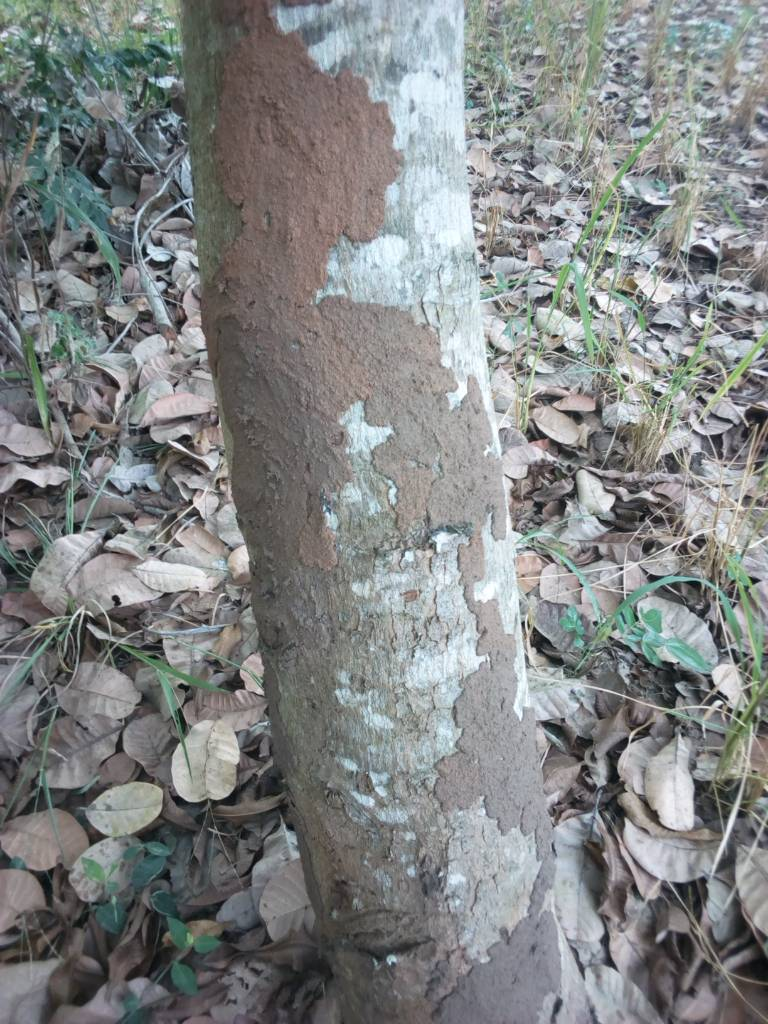Termites: (222, 27, 543, 989)
